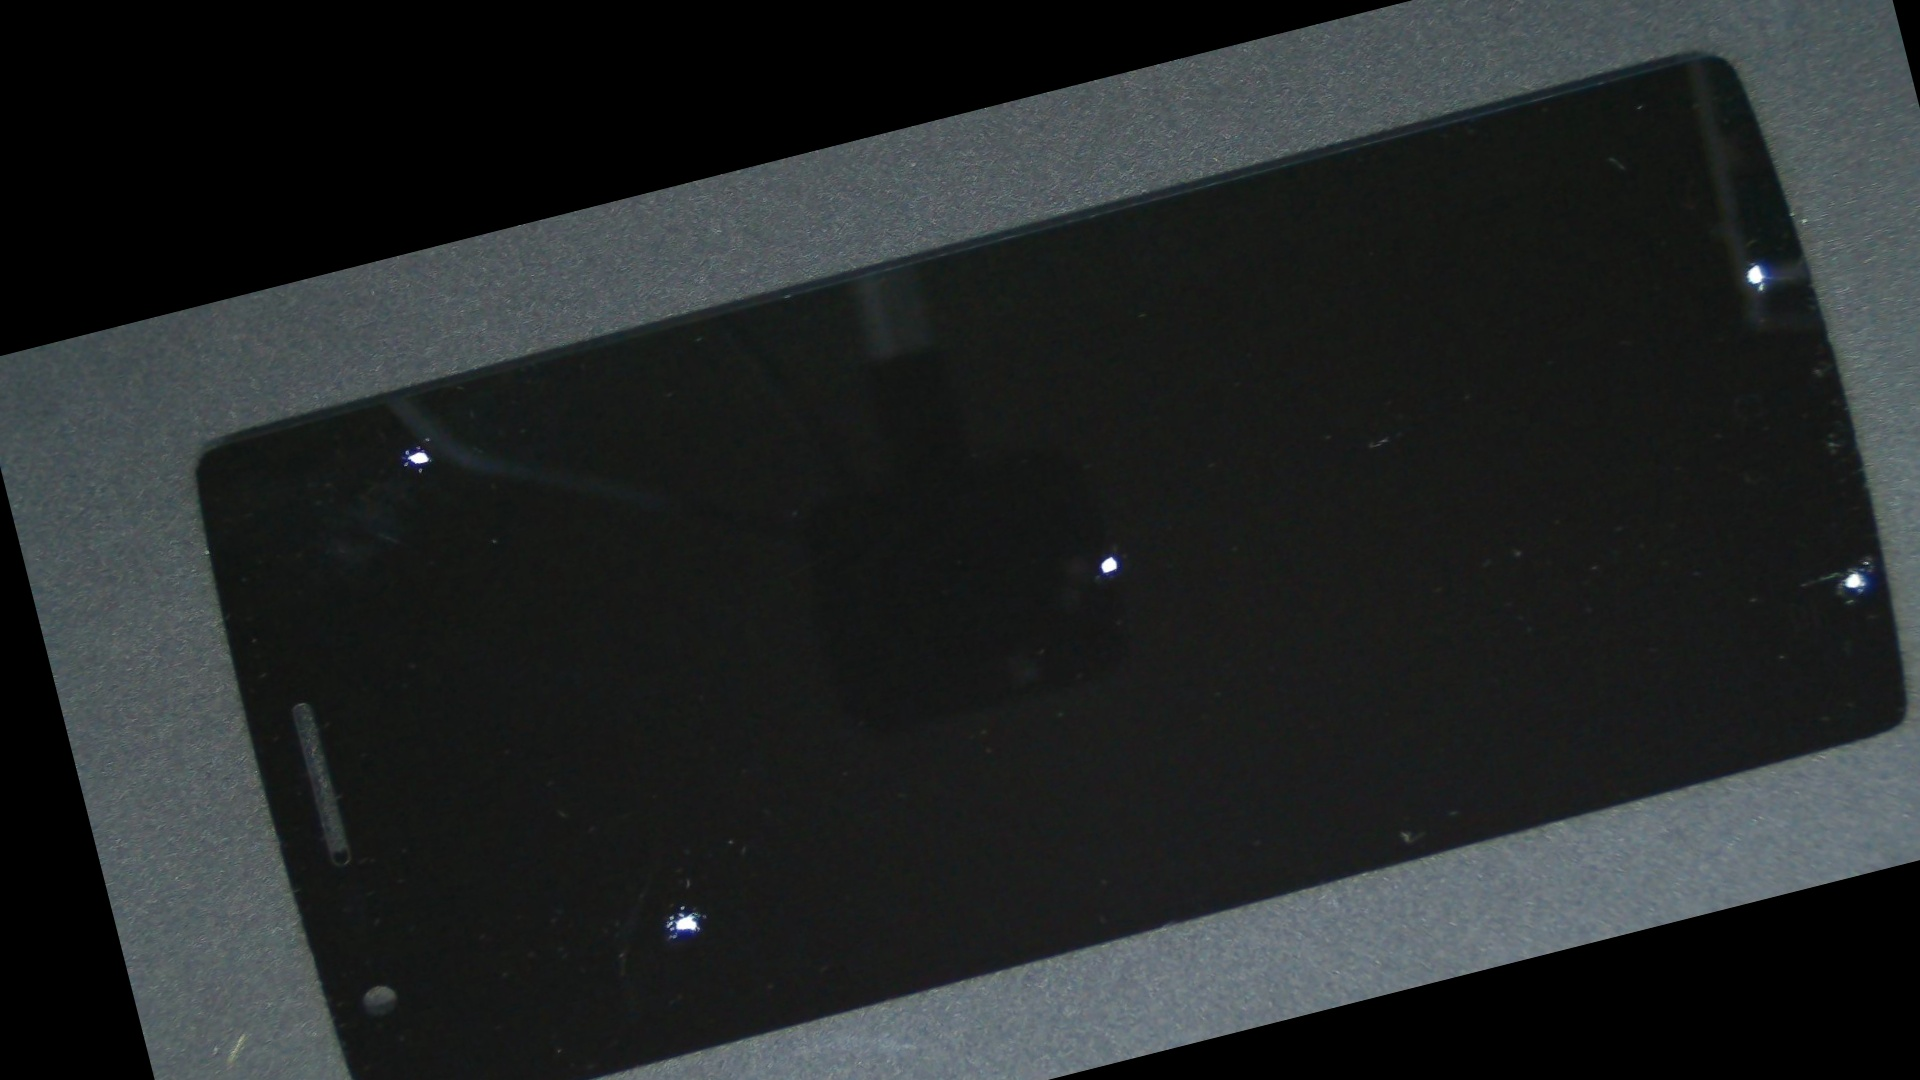oil: (919, 202, 1920, 1073), (542, 202, 1676, 910), (862, 49, 1920, 640), (327, 500, 1011, 1080), (200, 298, 650, 579), (195, 305, 634, 588)
